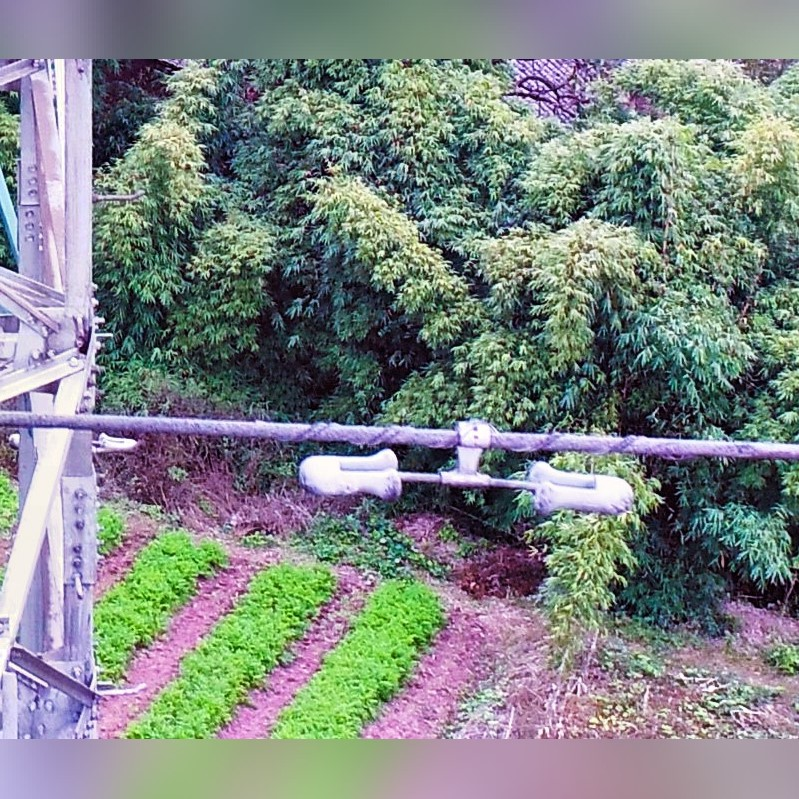Shockproof hammer: (292, 410, 642, 523)
